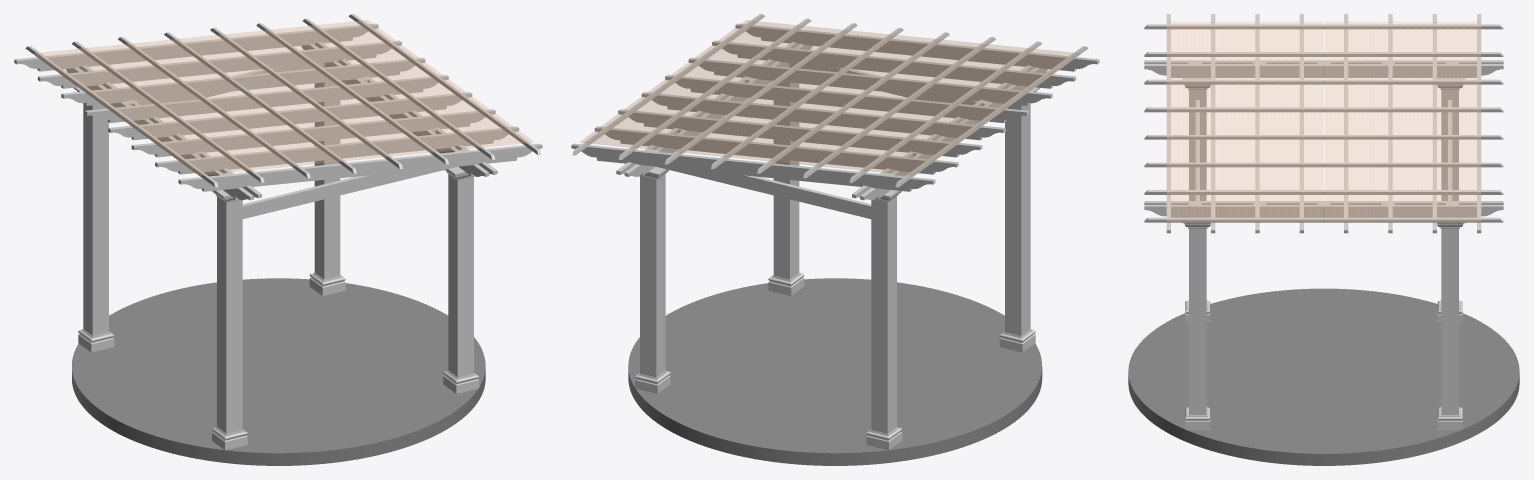
File: ПерголаВар4.obj
3 renders of one model, left to right at view 1: azimuth 30°, elevation 25°; view 2: azimuth 150°, elevation 25°; view 3: azimuth 270°, elevation 25°, orthographic. The views are drawn at different scales.
Size of the model in its own units: 4.45 by 3.57 by 4.4.
